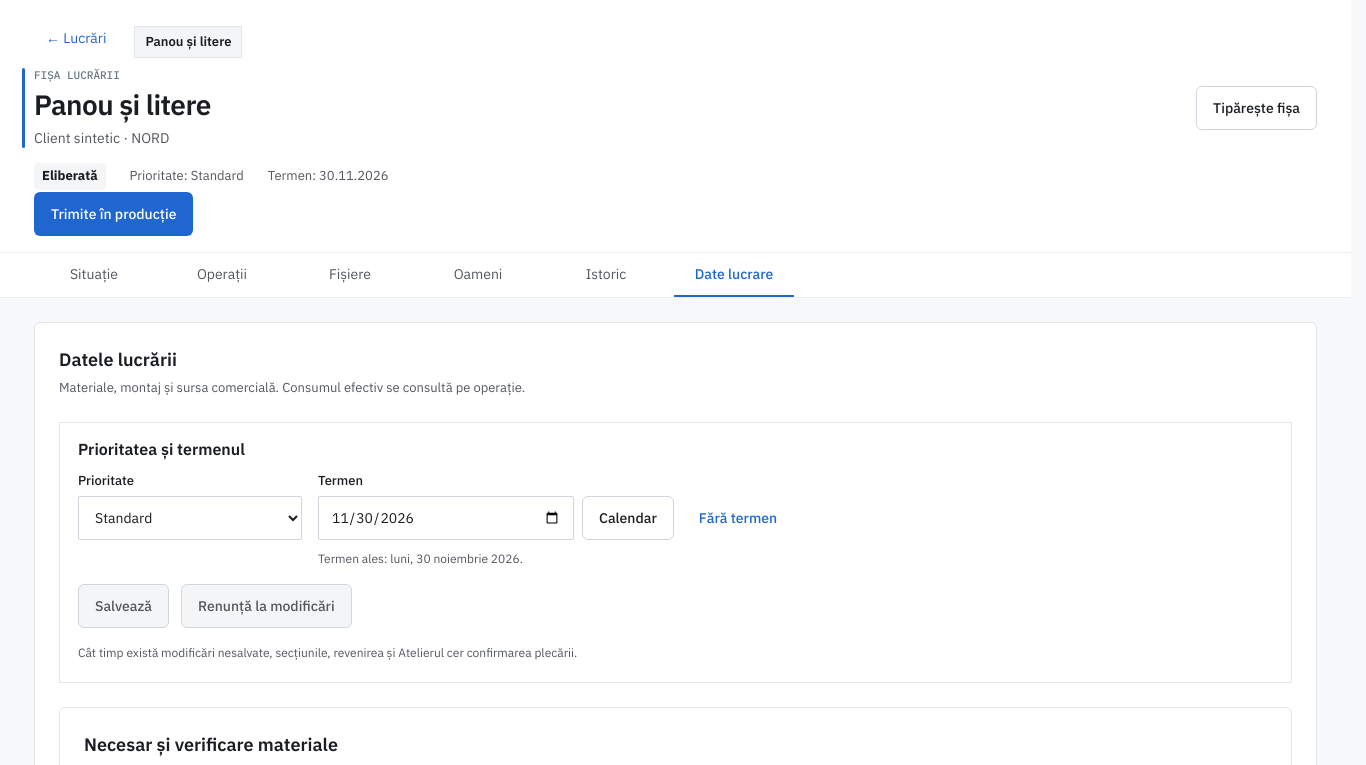
job deadline · calendar control (N-022) › "Fără termen" removes the deadline only on save, as null
This screenshot has width=1366, height=765.
Expected: the heading "Panou și litere" is shown, [34,87,211,124]
Click the button "Fără termen".
click(738, 518)  # box [682,496,794,540]
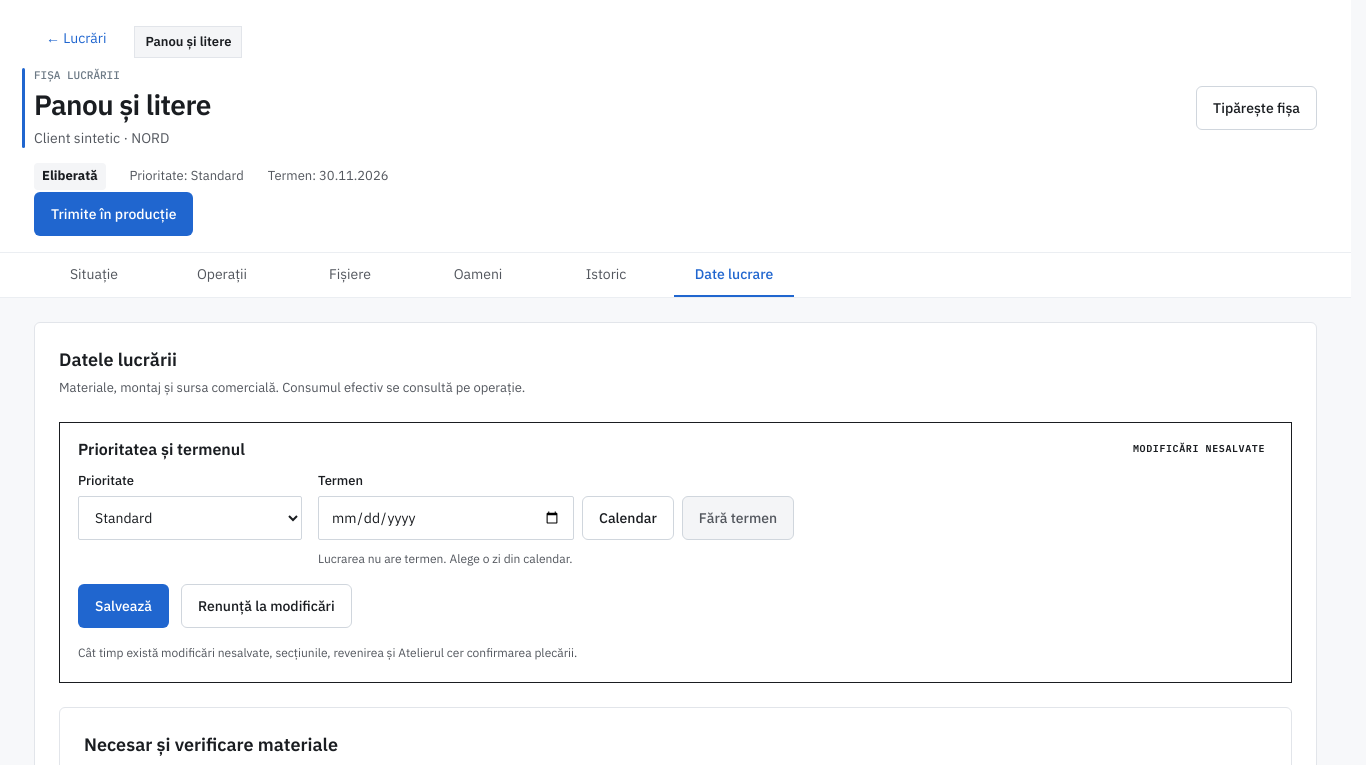
Now the date field labelled "Termen" is empty, box [318,496,574,540]
Now the text "Modificări nesalvate" is shown, box [1125,439,1273,459]
Click the button "Salvează".
click(124, 606)  # box [78,584,169,628]
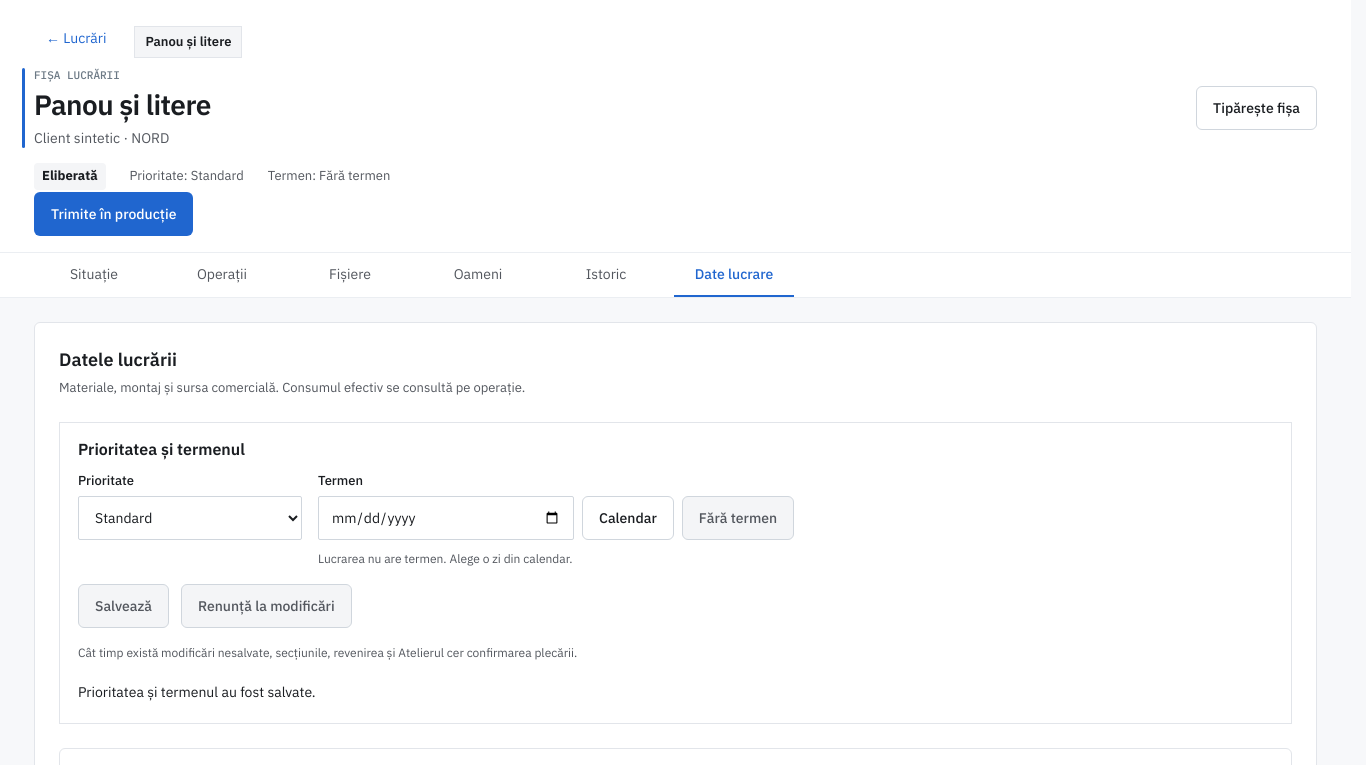
Now the text "Termen: Fără termen" is shown, box [268,167,390,186]
